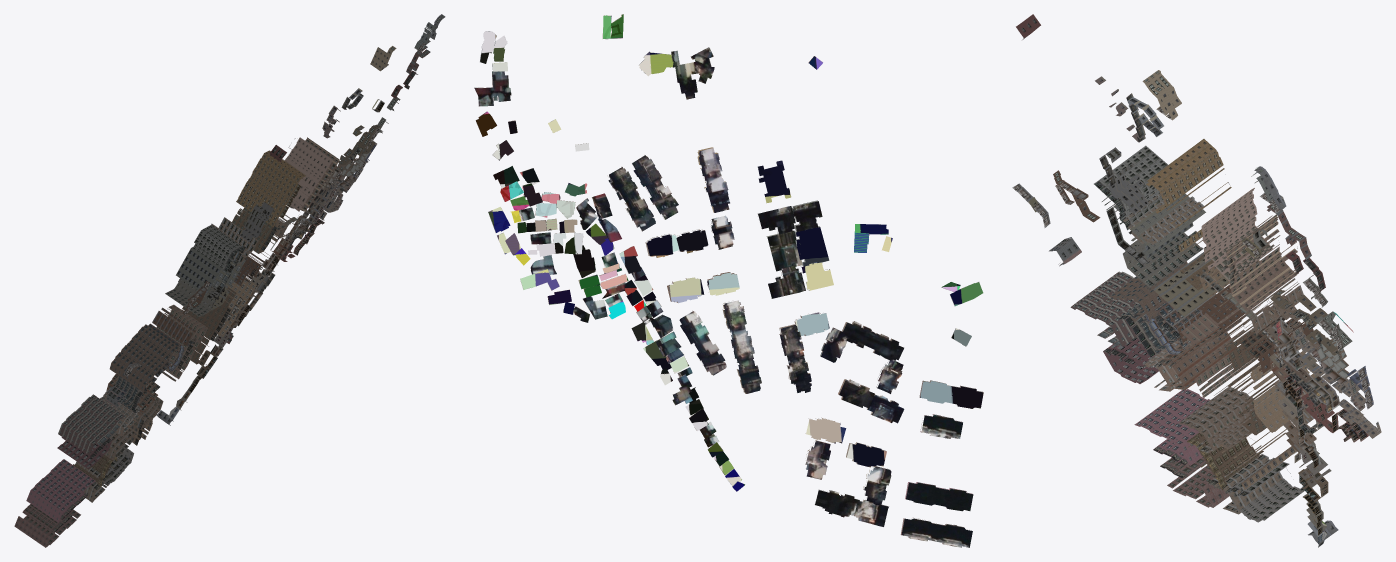
Rendered from tile_LOD8_r3_c1.glb.
3 renders of one model, left to right at view 1: azimuth 30°, elevation 25°; view 2: azimuth 150°, elevation 25°; view 3: azimuth 270°, elevation 25°, orthographic. The views are drawn at different scales.
Size of the model in its own units: 352 by 319 by 159.
435 materials, 435 textured.
